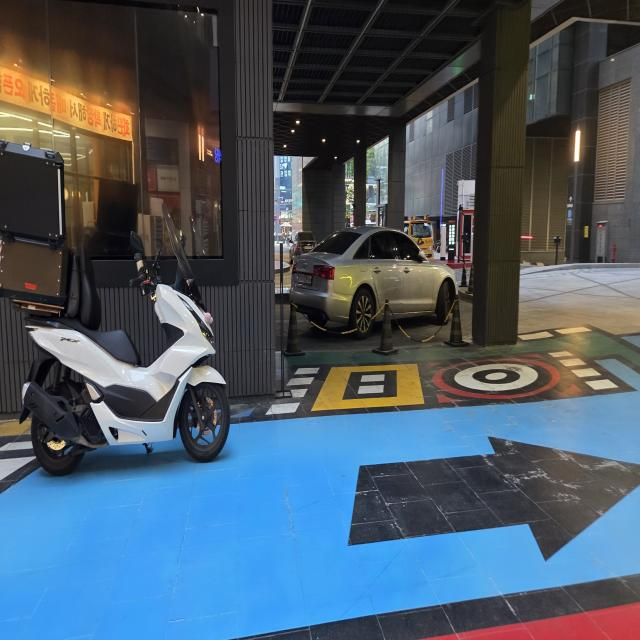car: (285, 196, 459, 368)
motorcycle: (22, 233, 243, 510)
